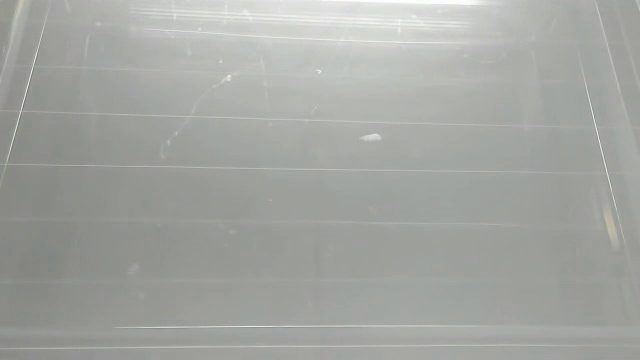alpha: (355, 129, 384, 147)
